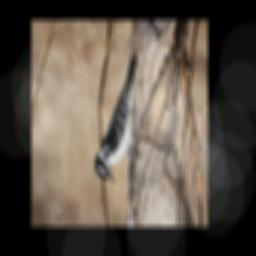Woodpecker: (94, 48, 143, 183)
